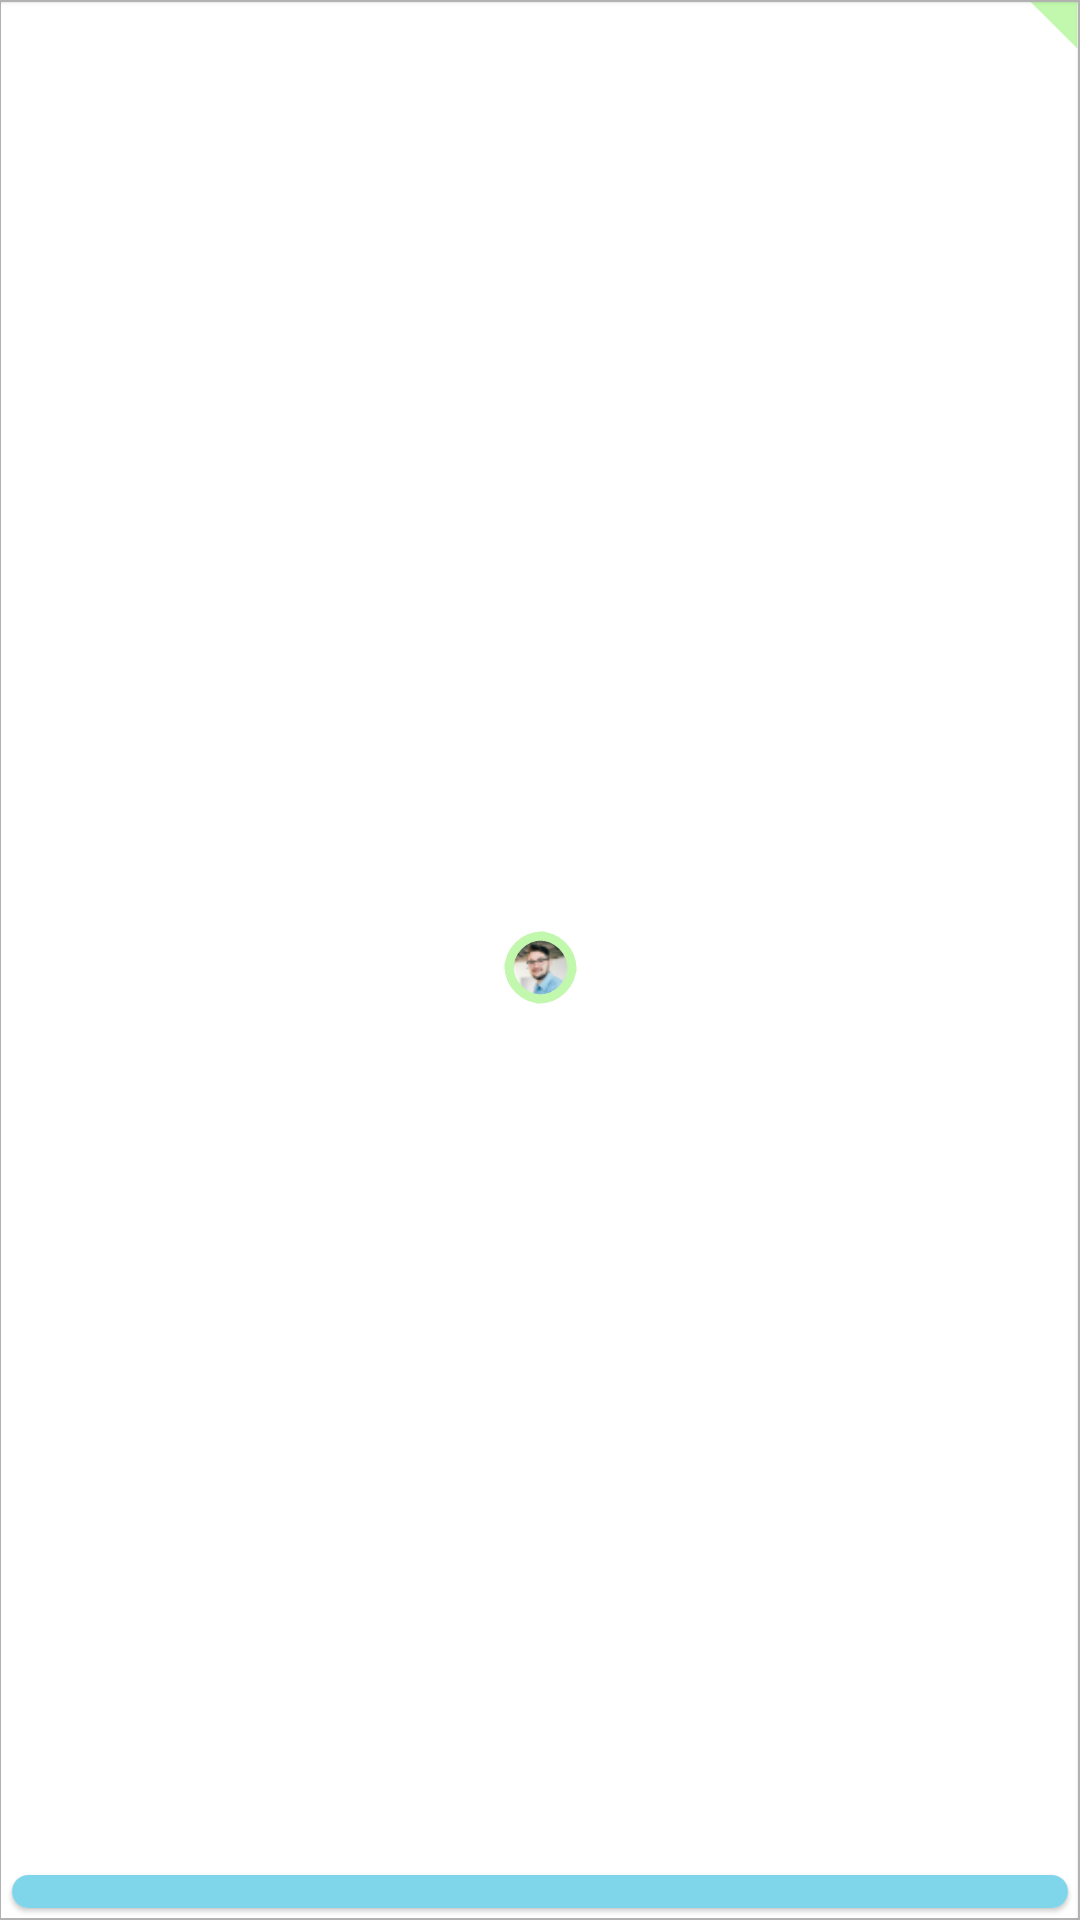

Icon bounding boxes for this 1080x1920 phone screenshot, format (x1, y1, x2, y2):
account: (504, 931, 577, 1004)
